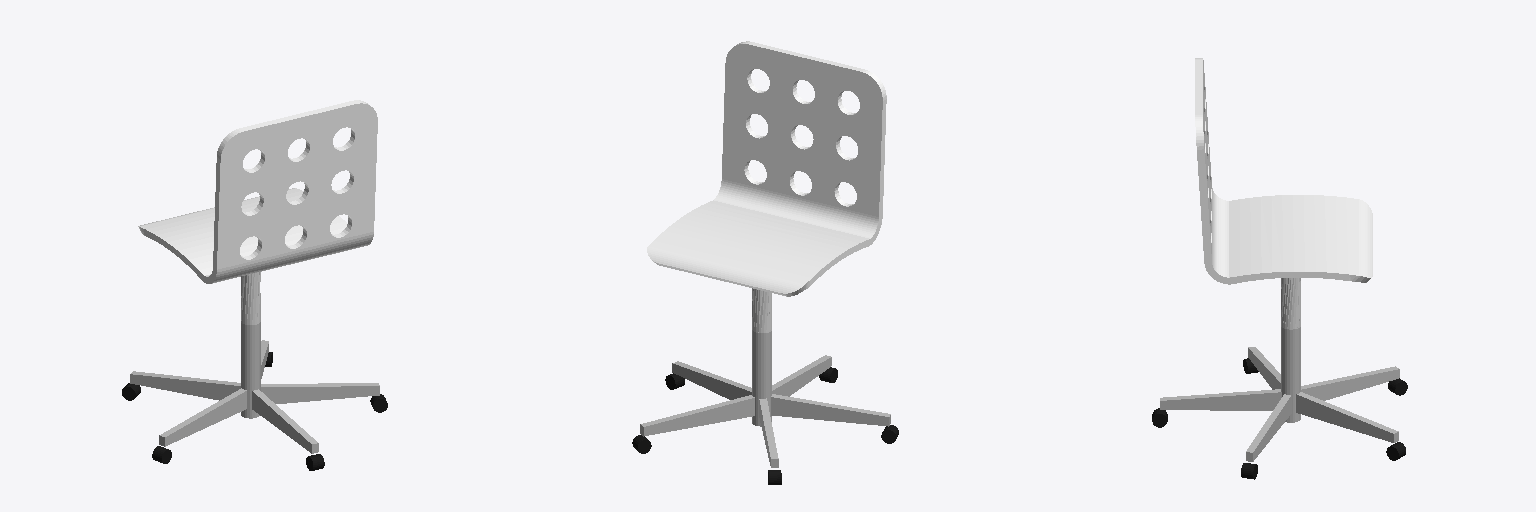
3 renders of one model, left to right at view 1: azimuth 30°, elevation 25°; view 2: azimuth 150°, elevation 25°; view 3: azimuth 270°, elevation 25°, orthographic.
Visible parts, largest first — view 1: Mesh1 Group2 Group1 Model, Mesh12 Group3 ske3F1 Group1 Model, Mesh11 Group8 Group3 ske3F1 Group1 Model, Mesh7 Group6 Group3 ske3F1 Group1 Model, Mesh9 Group7 Group3 ske3F1 Group1 Model, Mesh5 Group5 Group3 ske3F1 Group1 Model; view 2: Mesh1 Group2 Group1 Model, Mesh12 Group3 ske3F1 Group1 Model, Mesh9 Group7 Group3 ske3F1 Group1 Model, Mesh3 Group4 Group3 ske3F1 Group1 Model, Mesh11 Group8 Group3 ske3F1 Group1 Model, Mesh5 Group5 Group3 ske3F1 Group1 Model, Mesh7 Group6 Group3 ske3F1 Group1 Model; view 3: Mesh1 Group2 Group1 Model, Mesh12 Group3 ske3F1 Group1 Model, Mesh5 Group5 Group3 ske3F1 Group1 Model, Mesh3 Group4 Group3 ske3F1 Group1 Model, Mesh7 Group6 Group3 ske3F1 Group1 Model, Mesh11 Group8 Group3 ske3F1 Group1 Model, Mesh9 Group7 Group3 ske3F1 Group1 Model.
Part boxes in pixels (x1,y1,x2,y2): Mesh1 Group2 Group1 Model: (138, 100, 377, 283); Mesh12 Group3 ske3F1 Group1 Model: (241, 272, 260, 418); Mesh11 Group8 Group3 ske3F1 Group1 Model: (261, 383, 379, 403); Mesh7 Group6 Group3 ske3F1 Group1 Model: (130, 371, 240, 400); Mesh9 Group7 Group3 ske3F1 Group1 Model: (159, 388, 246, 446); Mesh5 Group5 Group3 ske3F1 Group1 Model: (252, 389, 318, 453); Mesh1 Group2 Group1 Model: (647, 41, 886, 296); Mesh12 Group3 ske3F1 Group1 Model: (752, 288, 771, 426); Mesh9 Group7 Group3 ske3F1 Group1 Model: (771, 394, 890, 426); Mesh3 Group4 Group3 ske3F1 Group1 Model: (640, 395, 754, 436); Mesh11 Group8 Group3 ske3F1 Group1 Model: (672, 361, 751, 399); Mesh5 Group5 Group3 ske3F1 Group1 Model: (772, 355, 831, 396); Mesh7 Group6 Group3 ske3F1 Group1 Model: (759, 398, 778, 467); Mesh1 Group2 Group1 Model: (1195, 58, 1372, 284); Mesh12 Group3 ske3F1 Group1 Model: (1281, 278, 1300, 422); Mesh5 Group5 Group3 ske3F1 Group1 Model: (1160, 389, 1281, 410); Mesh3 Group4 Group3 ske3F1 Group1 Model: (1296, 392, 1398, 442); Mesh7 Group6 Group3 ske3F1 Group1 Model: (1301, 366, 1399, 400); Mesh11 Group8 Group3 ske3F1 Group1 Model: (1246, 394, 1291, 461); Mesh9 Group7 Group3 ske3F1 Group1 Model: (1248, 347, 1280, 389).
Bounding box in the file's own units: 0.5512 × 0.7687 × 0.5257.